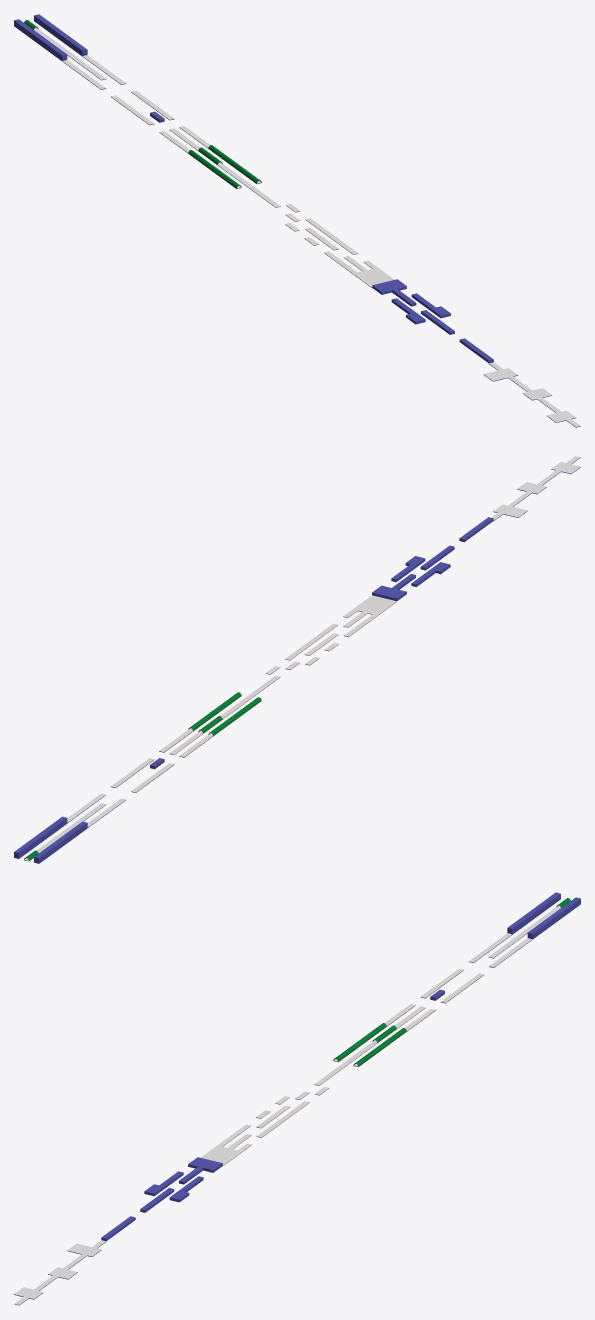
The model's file is Level31.FBX.
3 views of the same model, one above another, from view 1: azimuth 30°, elevation 25°; view 2: azimuth 150°, elevation 25°; view 3: azimuth 330°, elevation 25° (orthographic).
Parts seen in each view (by area): view 1: basePlatform, Obsticles; view 2: basePlatform, Obsticles; view 3: basePlatform, Obsticles.
Part boxes in pixels (<box>): basePlatform: <box>34,27,580,426</box>; Obsticles: <box>14,14,493,363</box>; basePlatform: <box>24,456,580,860</box>; Obsticles: <box>14,517,493,863</box>; basePlatform: <box>14,905,560,1304</box>; Obsticles: <box>101,892,580,1241</box>.
Bounding box in the file's own units: 26.27 × 4.14 × 712.
